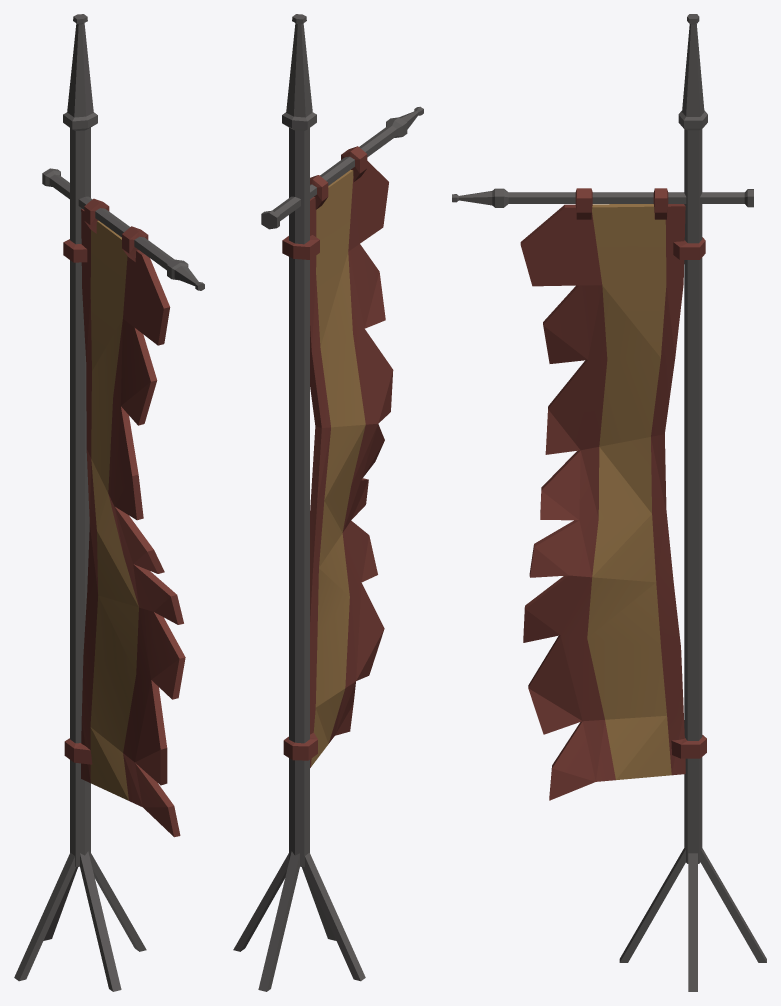
The model's file is Bandera.glb.
3 renders of one model, left to right at view 1: azimuth 30°, elevation 25°; view 2: azimuth 150°, elevation 25°; view 3: azimuth 270°, elevation 25°, orthographic.
Visible parts, largest first — view 1: SM_Prop_Flag_02; view 2: SM_Prop_Flag_02; view 3: SM_Prop_Flag_02.
Part boxes in pixels (box(x1,y1,x2,y2)): SM_Prop_Flag_02: box(14, 14, 204, 991); SM_Prop_Flag_02: box(233, 14, 423, 991); SM_Prop_Flag_02: box(452, 14, 766, 991).
Bounding box in the file's own units: 0.6875 × 4.87 × 1.47.
Materials: 1 (1 with a texture image).
